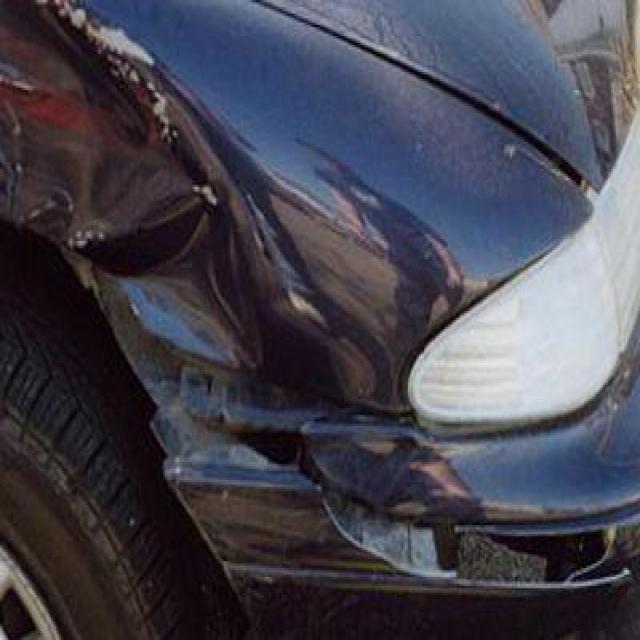dent: (8, 8, 442, 578)
